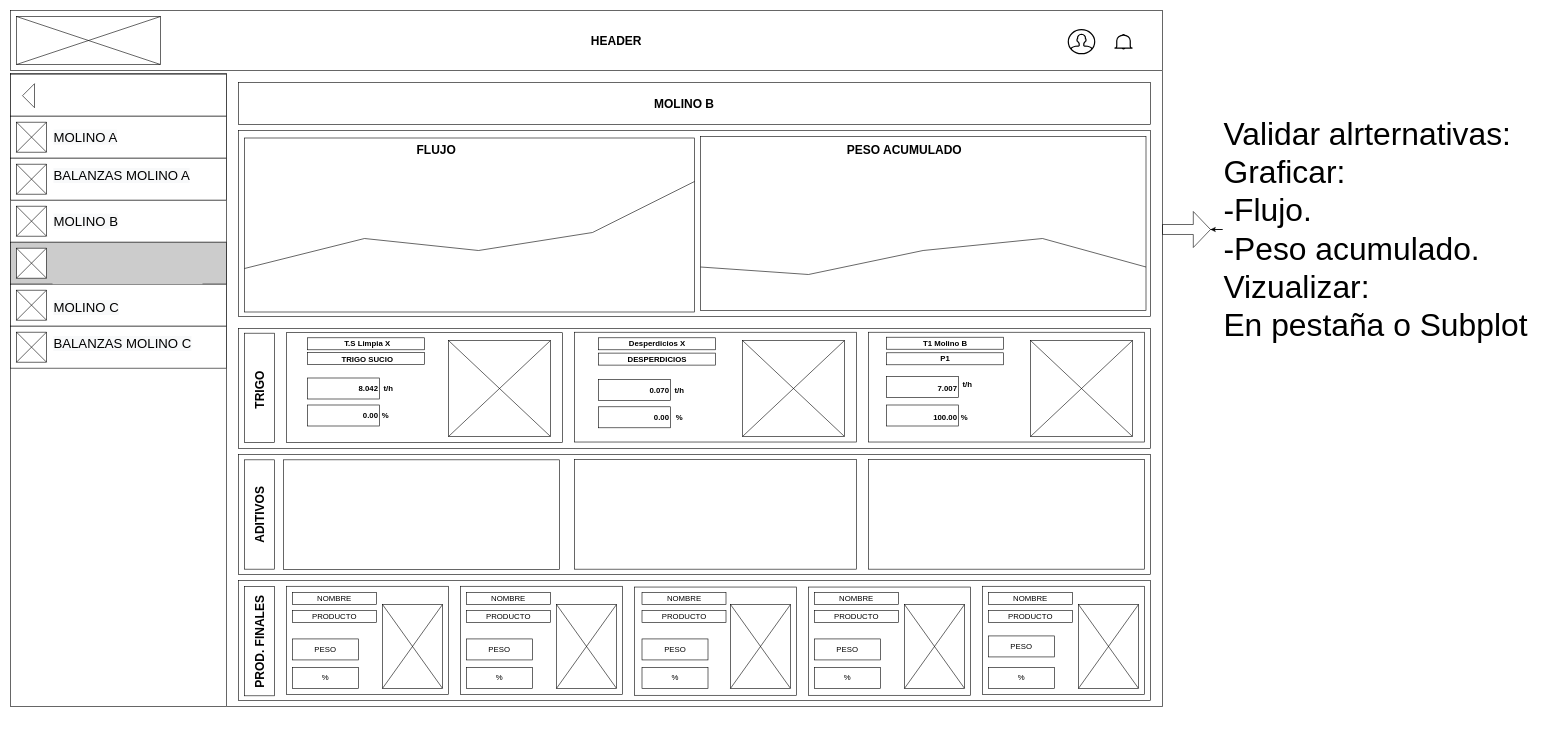
Some shapes in this 1551 by 730 pixel diagram are drawn without their labels. The centre of each missing label's shape, as x and y in pixels:
"BALANZAS MOLINO B" belongs at [127,269].
"IMAGEN" belongs at [88,40].
